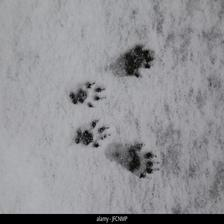squirrel: (107, 141, 161, 183), (105, 43, 157, 83), (65, 80, 107, 110), (72, 118, 111, 150)
